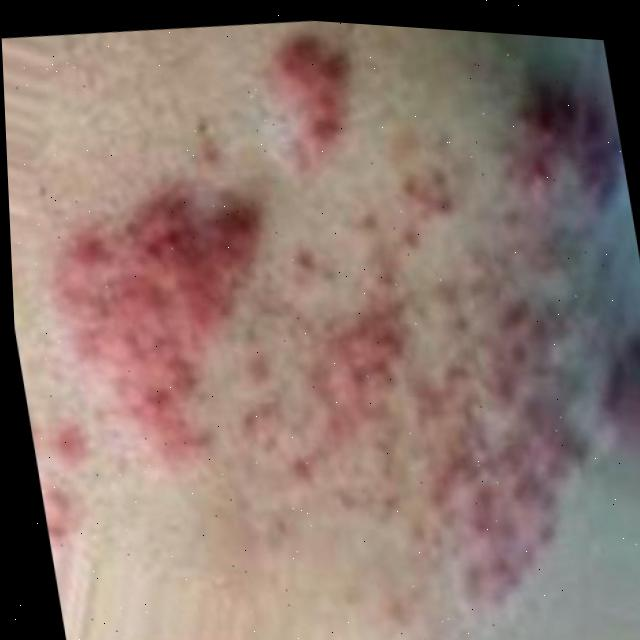Shingles: (296, 207, 640, 614), (65, 189, 280, 457), (494, 81, 629, 209), (264, 18, 364, 165)
